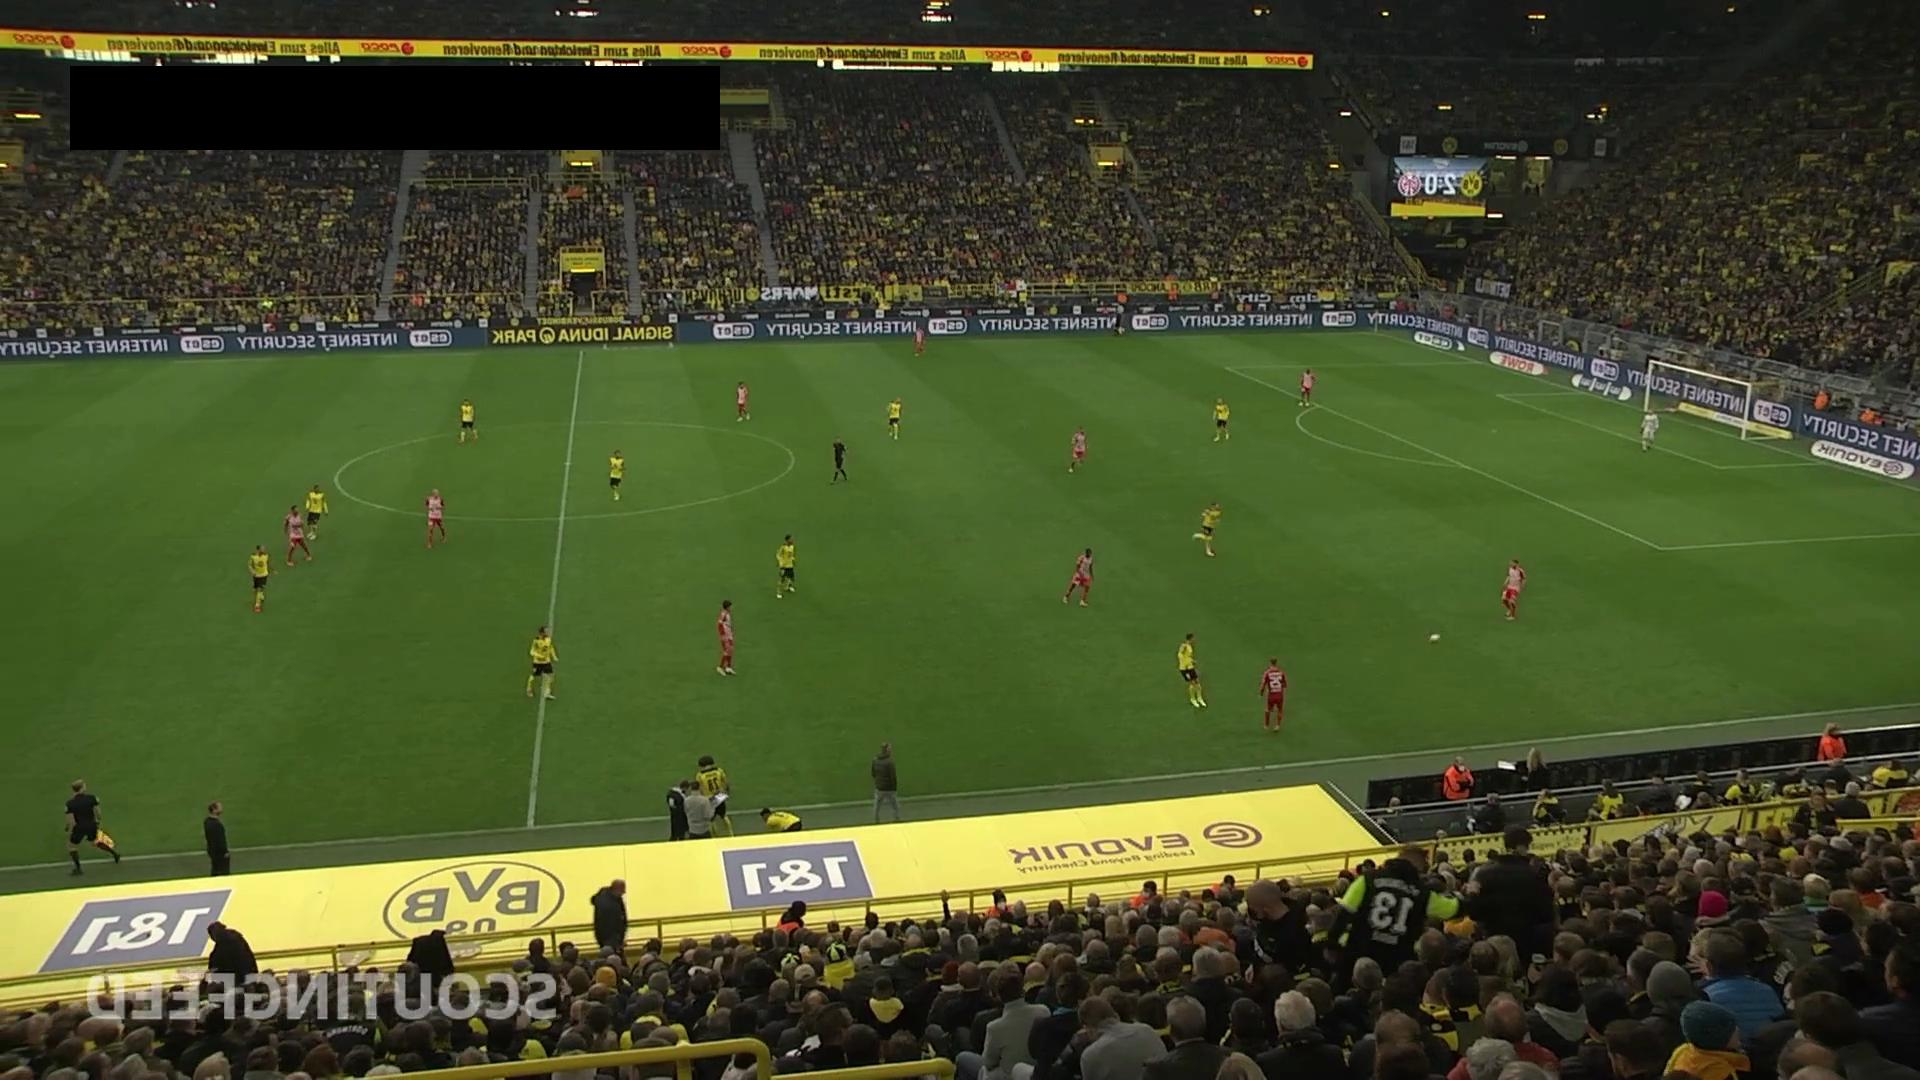ball: (1429, 633, 1441, 643)
goalkeeper: (1639, 410, 1660, 451)
player: (525, 625, 559, 700), (1176, 632, 1208, 708), (1258, 657, 1288, 733), (1062, 547, 1094, 607), (284, 504, 314, 567), (1193, 500, 1223, 557), (248, 543, 272, 612), (715, 600, 736, 675), (1501, 558, 1526, 620), (424, 488, 448, 549), (775, 533, 797, 599), (304, 483, 329, 540), (1067, 426, 1088, 474), (457, 397, 478, 444), (608, 448, 626, 502), (1212, 395, 1231, 443), (1299, 367, 1317, 407), (887, 395, 903, 440), (735, 381, 751, 422), (911, 325, 928, 358)
referee: (64, 779, 121, 876), (830, 438, 849, 484), (1111, 309, 1126, 338)
